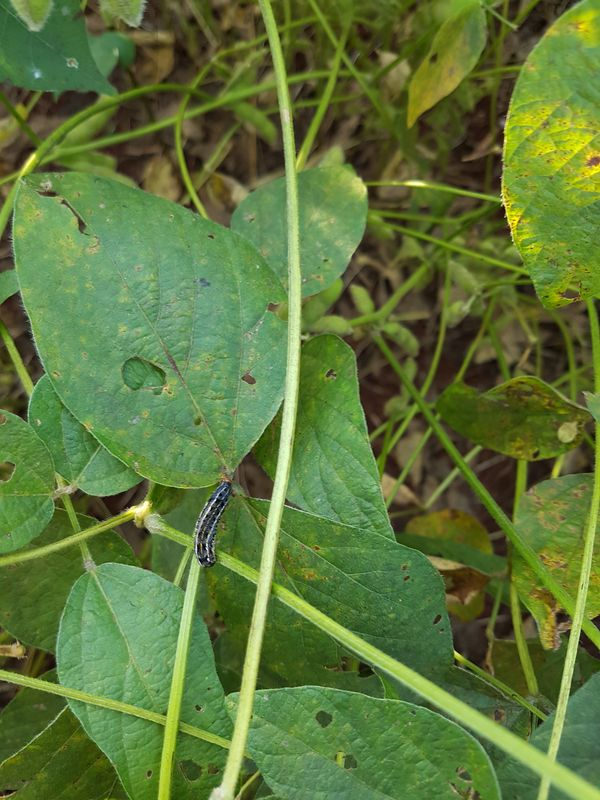Euschistus_heros_ninfa: (549, 413, 588, 451)
Spodoptera_albula: (174, 470, 254, 575)
